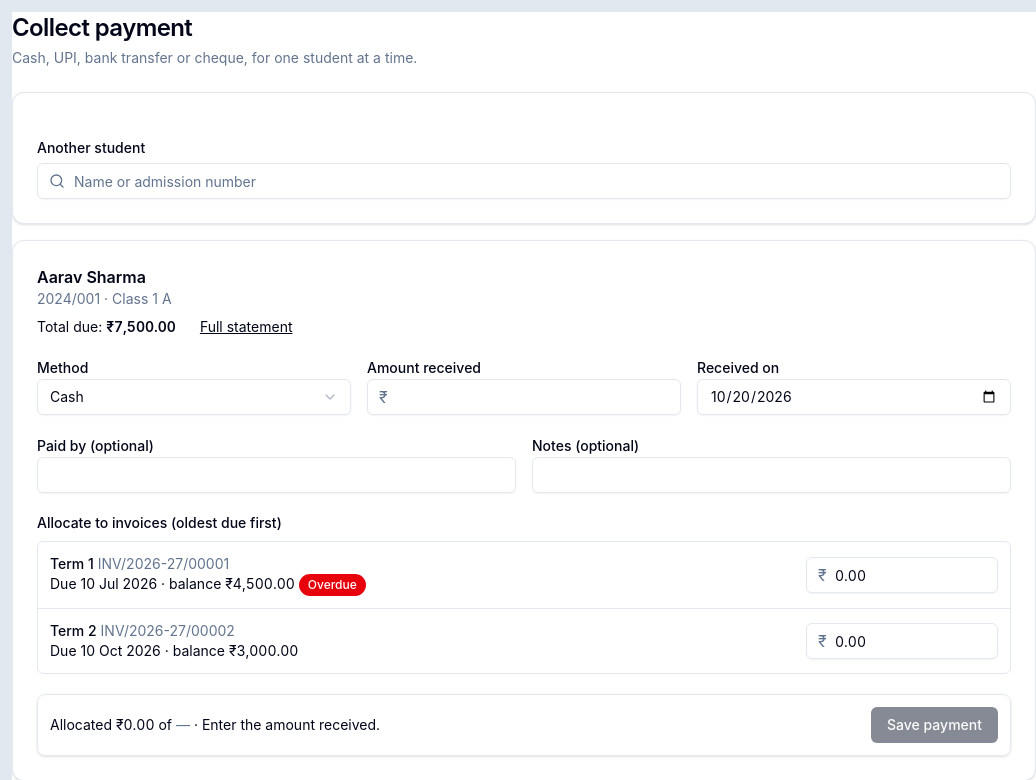
Test: collect payment › shows the student, allocates oldest due first, and enables Save only when the rows add up
expect the text with test id "statement-student" reads "Aarav Sharma": met, box [37, 267, 146, 287]
expect the button with test id "save-payment" is disabled: met, box [871, 707, 998, 743]
Type "5,000" into the field labelled "Amount received".
click(524, 397); type("5,000")  # box [367, 379, 681, 415]
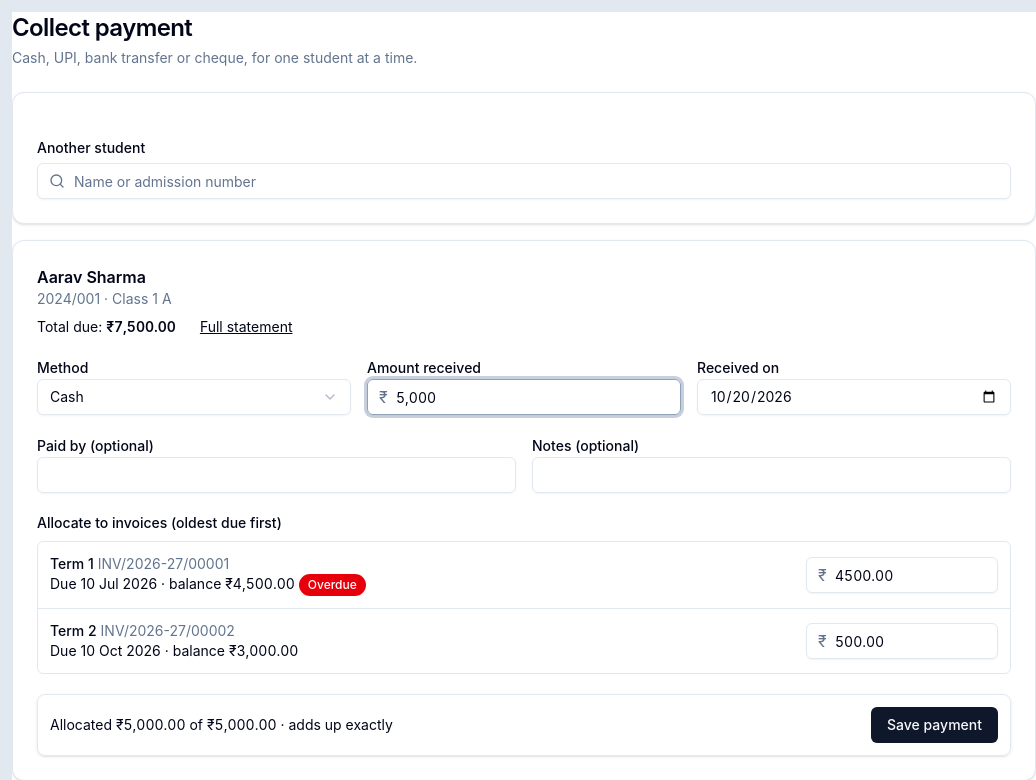
expect the field named "Amount for INV/2026-27/00001" in the row of "Term 1" holds "4500.00": met, box [806, 557, 998, 593]
expect the field named "Amount for INV/2026-27/00002" in the row of "Term 2" holds "500.00": met
expect the element with test id "allocation-status" shows "adds up exactly": met, box [277, 716, 393, 733]
Clear the field named "Amount for INV/2026-27/00002" in the row of "Term 2" at (902, 641), box [806, 623, 998, 659]
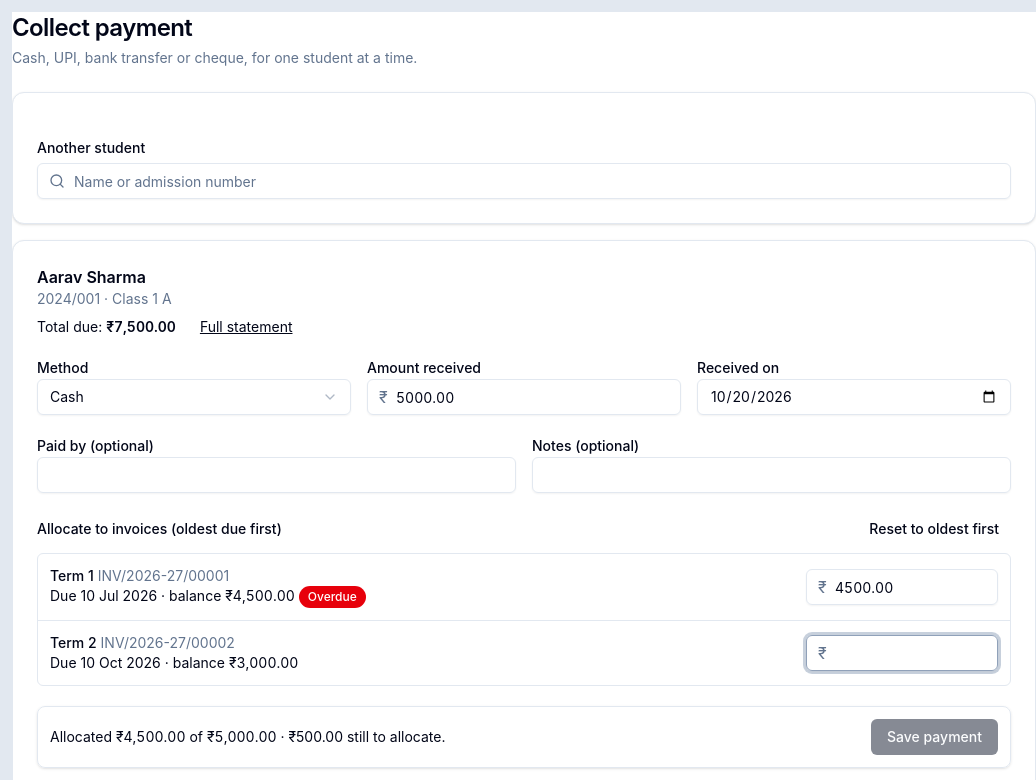
Type "400" into the field named "Amount for INV/2026-27/00002" in the row of "Term 2".
click(902, 653); type("400")  # box [806, 635, 998, 671]
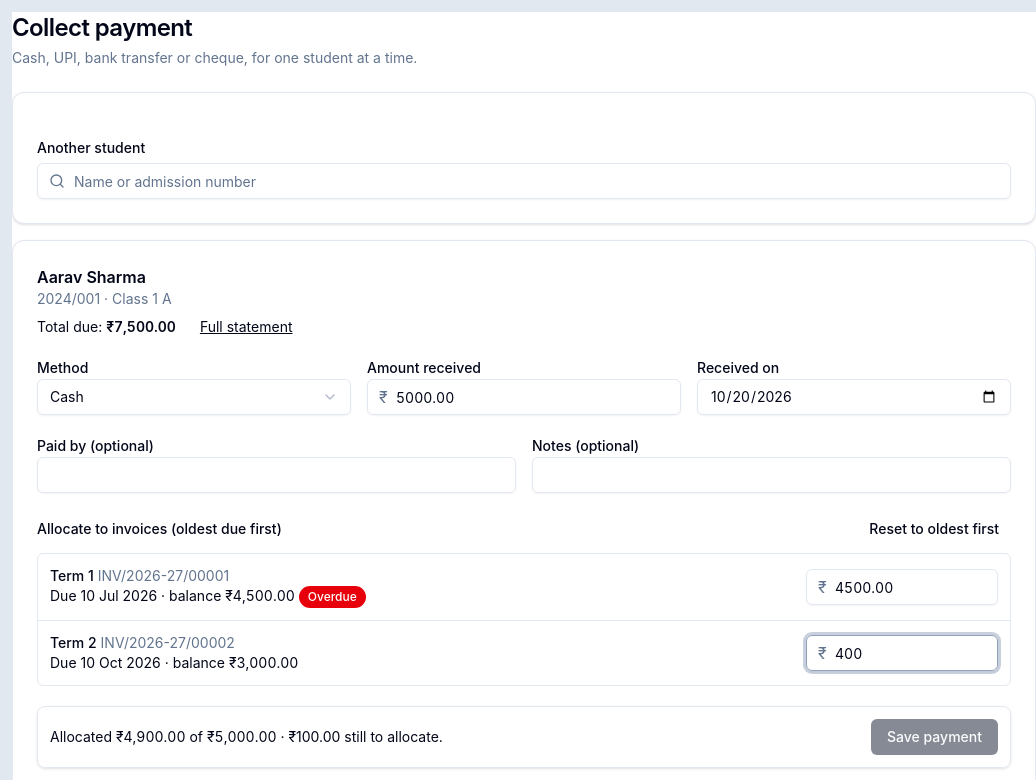
expect the button "Save payment" is disabled: met, box [871, 719, 998, 755]
expect the element with test id "allocation-status" shows "₹100.00 still to allocate": met, box [277, 728, 443, 745]
Replace the text in the field named "Amount for INV/2026-27/00001" in the row of "Term 1" with "4600" at (902, 587), box [806, 569, 998, 605]
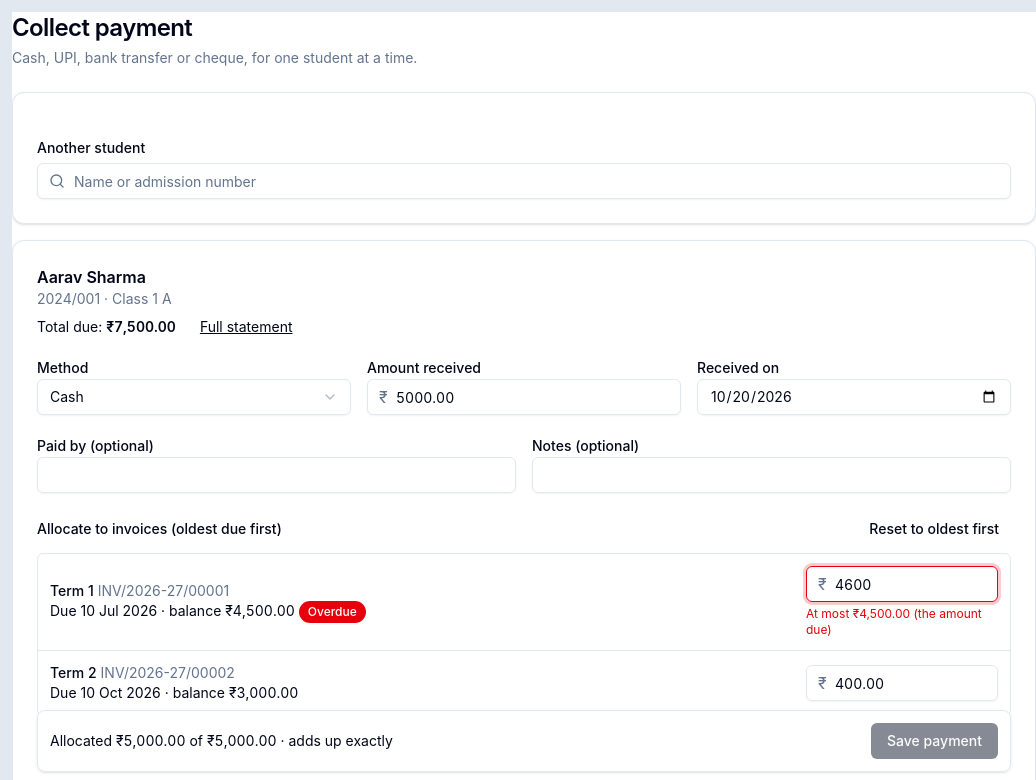
expect the button "Save payment" is disabled: met, box [871, 723, 998, 759]
expect the text "At most ₹4,500.00 (the amount due)" is shown: met, box [806, 606, 998, 638]
Click the button "Reset to oldest first".
click(934, 529)  # box [857, 513, 1011, 545]
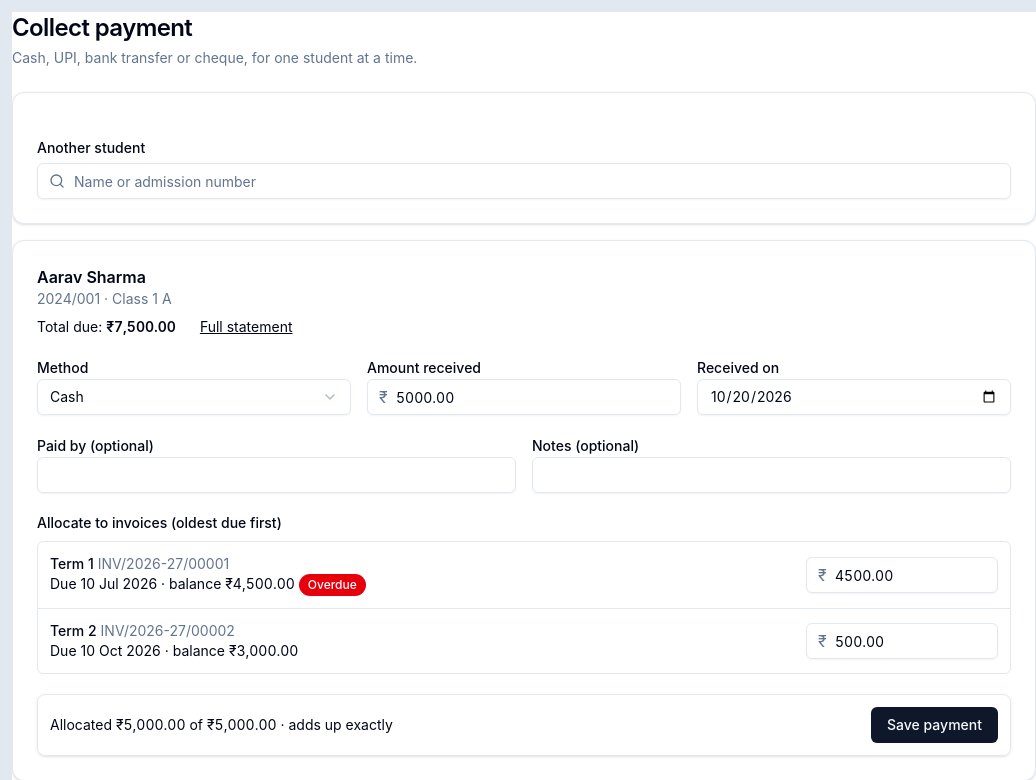
expect the button "Save payment" is enabled: met, box [871, 707, 998, 743]
